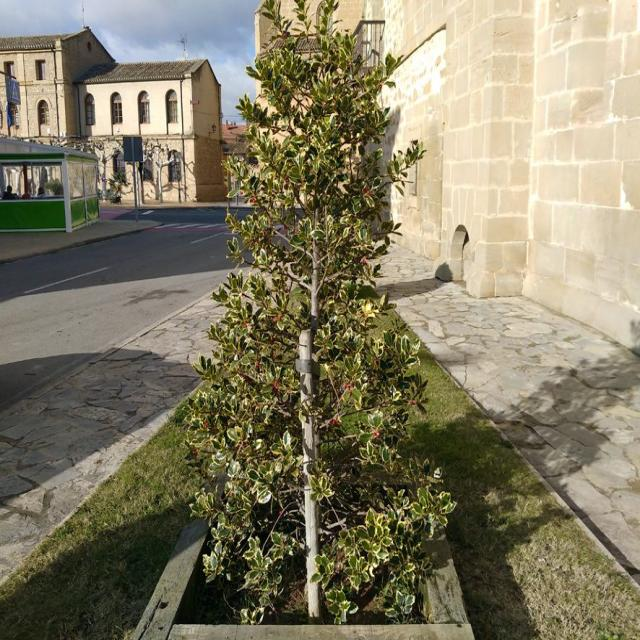acebo: (180, 0, 458, 623)
